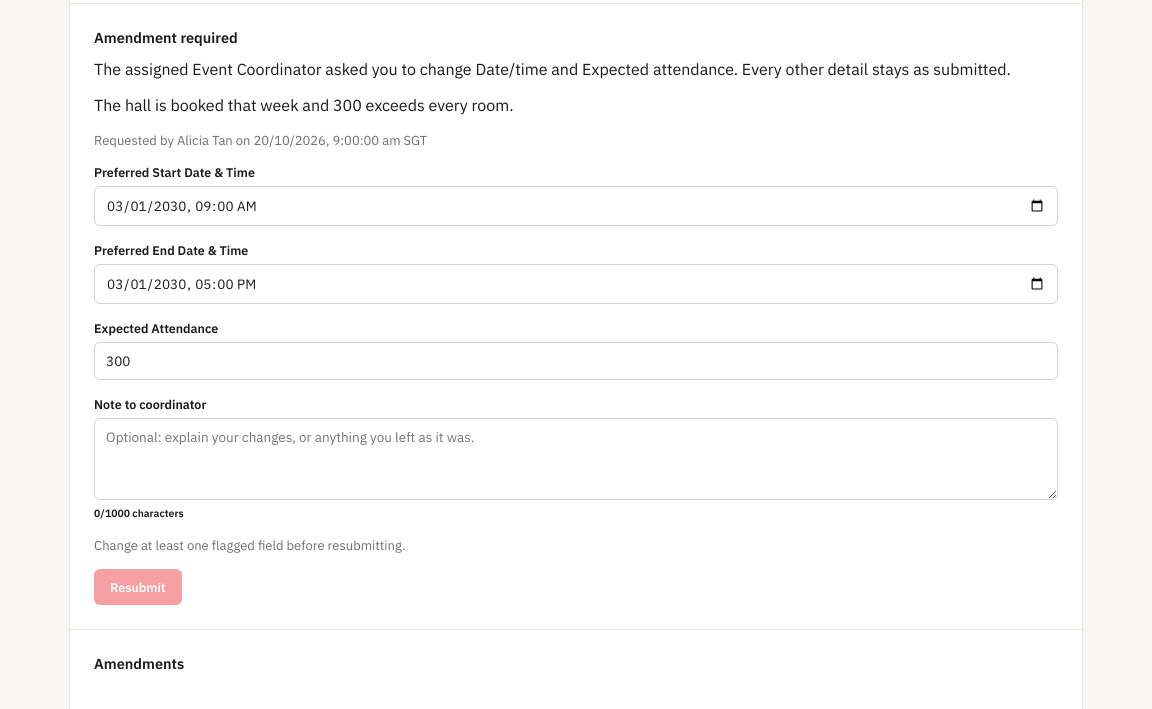
AC3: Resubmit stays disabled until a flagged value changes
This screenshot has width=1152, height=709.
(page scrolled)
Expected: the button "Resubmit" is disabled, [94,569,182,605]
Expected: the text "Change at least one flagged field before resubmitting." is shown, [94,537,406,554]
Replace the text in the number field labelled "Expected Attendance" with "120" at (576, 361), box [94,342,1058,380]
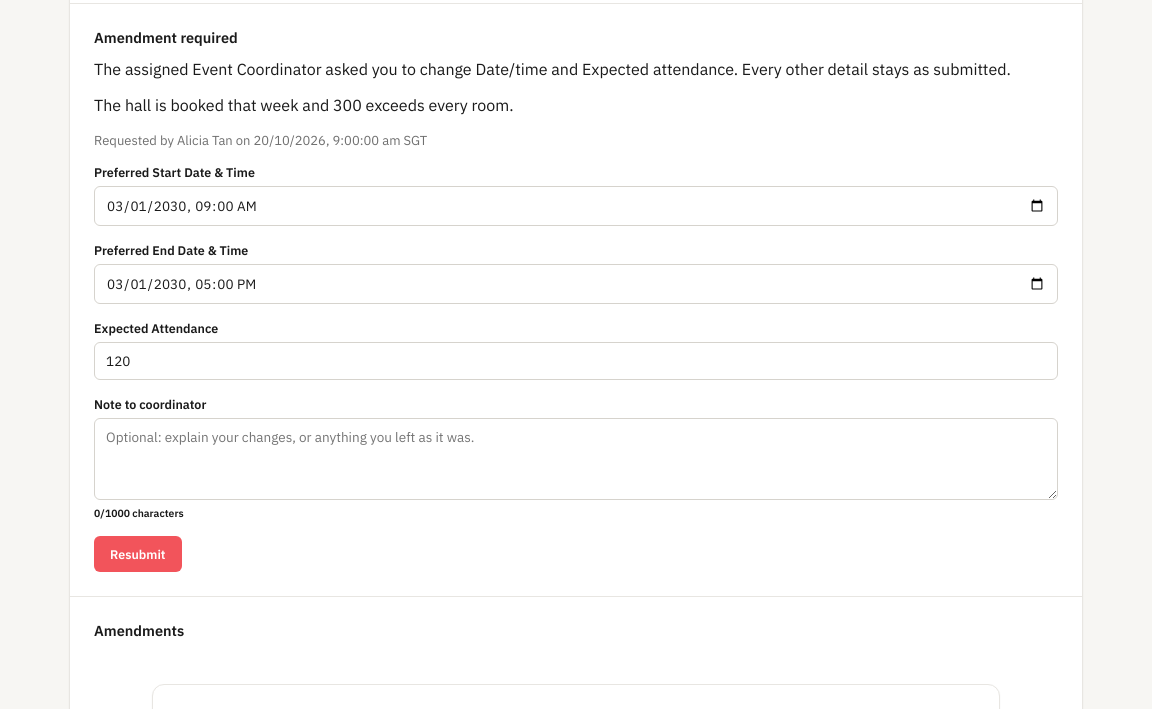
Result: the button "Resubmit" is enabled at [94,536,182,572]
Replace the text in the number field labelled "Expected Attendance" with "300" at (576, 361), box [94,342,1058,380]
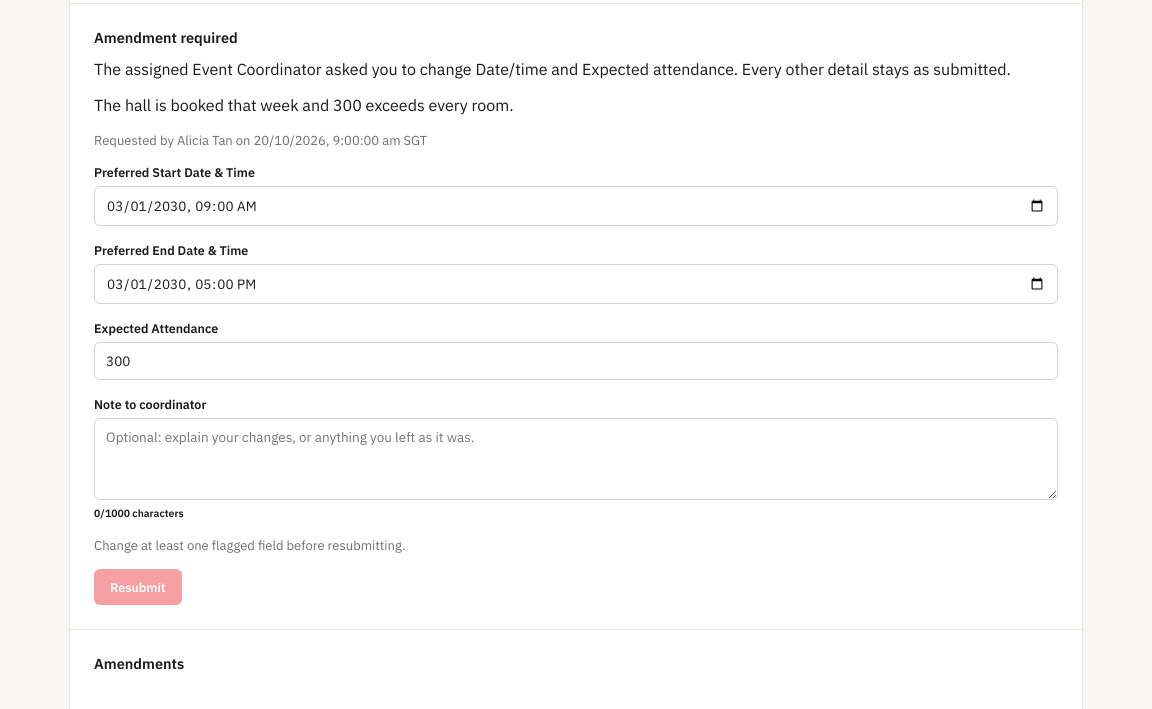
Result: the button "Resubmit" is disabled at [94,569,182,605]
